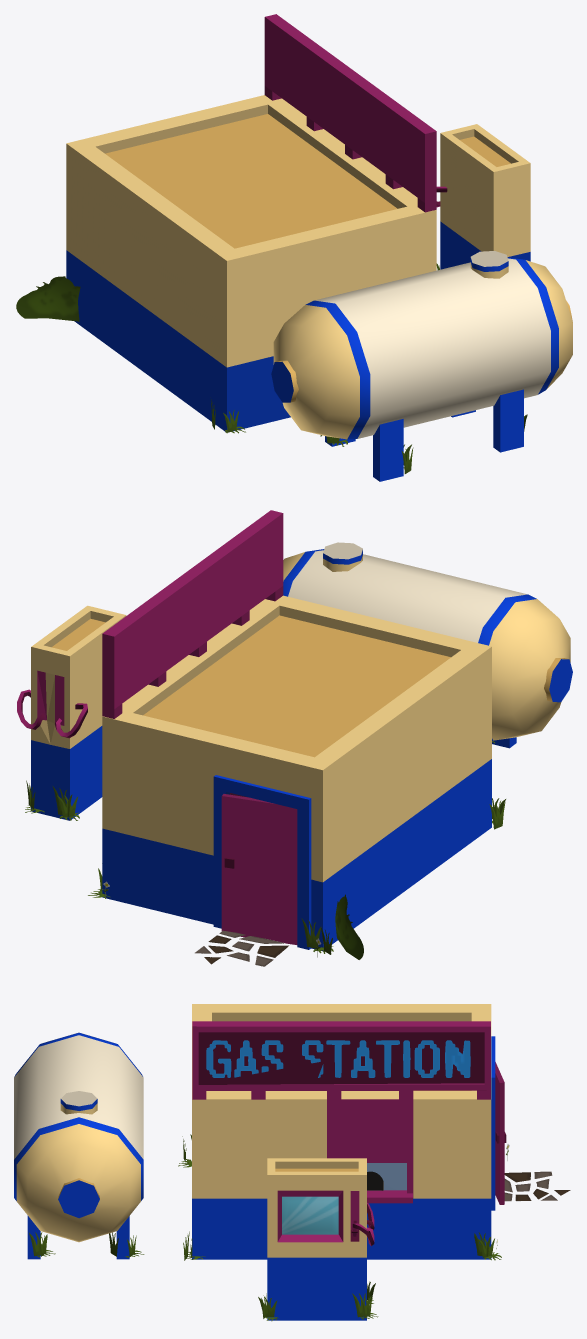
The model's file is Target_GasStation.fbx.
The picture shows the model from 3 angles, top to bottom: view 1: azimuth 30°, elevation 25°; view 2: azimuth 150°, elevation 25°; view 3: azimuth 270°, elevation 25°; orthographic projection. The views are drawn at different scales.
Visible parts, largest first — view 1: Buildings; view 2: Buildings; view 3: Buildings.
Boxes of the visible parts, x1,y1,x2,y2 form: Buildings: (16,14,572,481); Buildings: (17,510,572,966); Buildings: (14,1004,570,1321).
Bounding box in the file's own units: 544 × 321 × 696.
